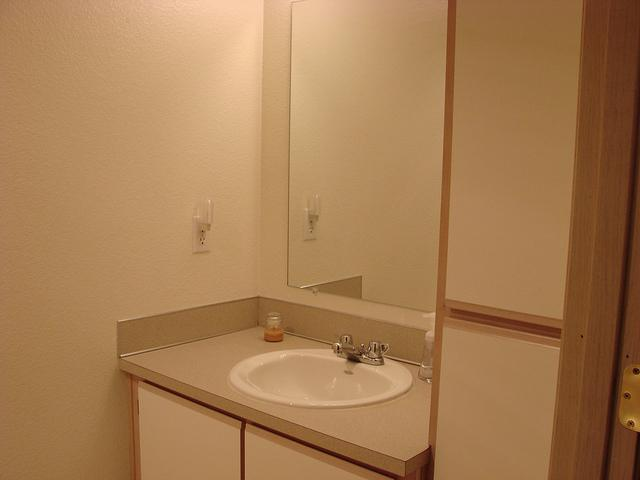Lavamanos: (229, 327, 417, 416)
